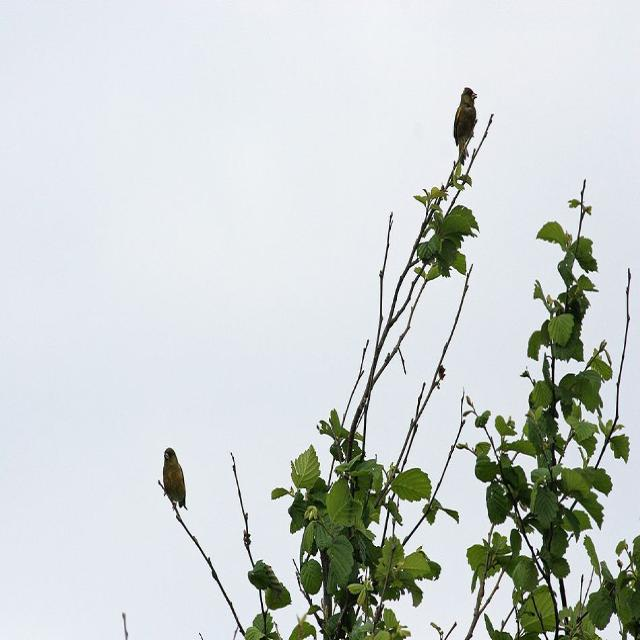bird: (452, 88, 478, 171), (160, 447, 188, 512)
